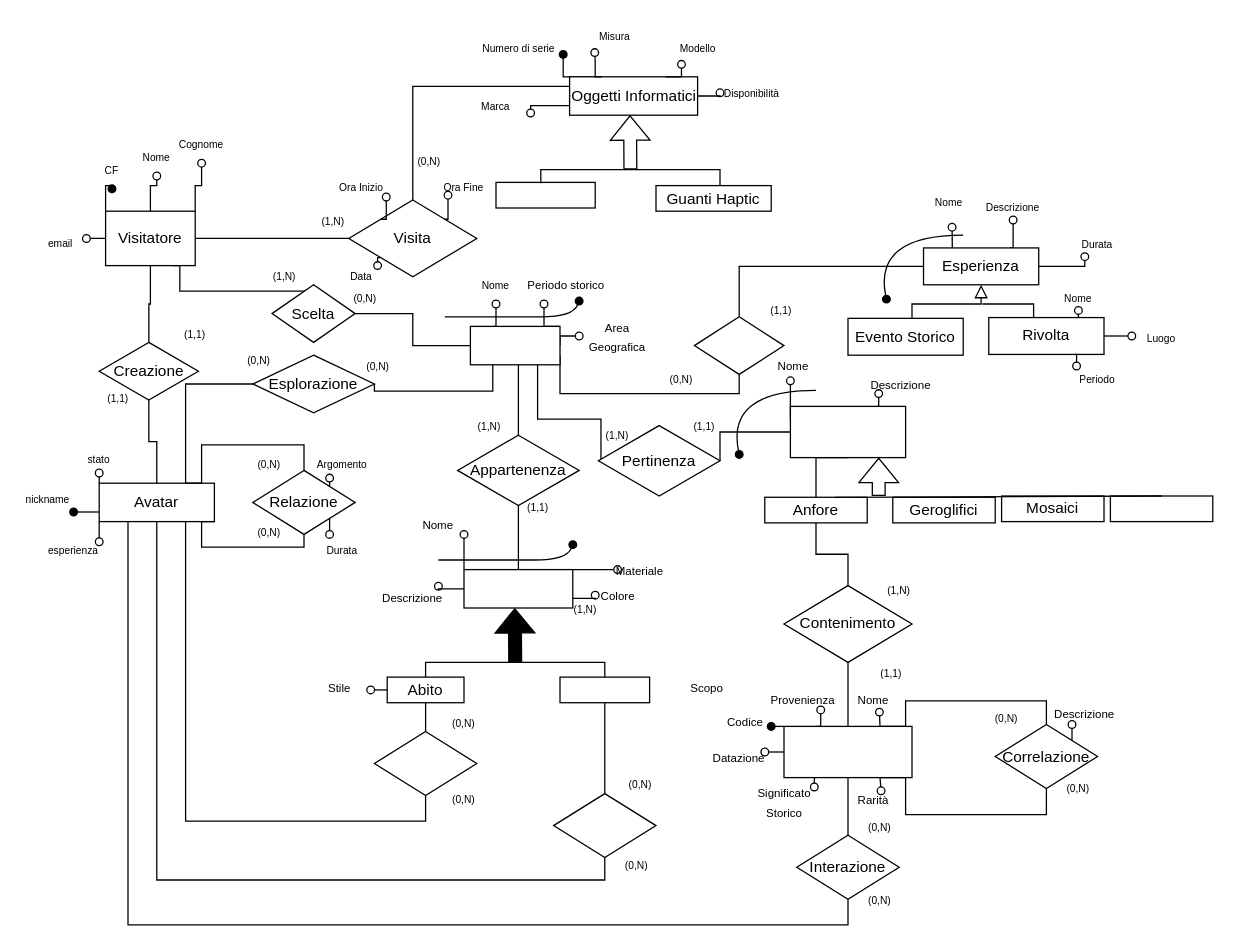
Some shapes in this 1235 by 948 pixel diagram are drawn without their labels. The shapes that lost their labels are listed below. From the top down, each one's centre as x and y in pixels, then its label:
the point at 545,194: Visore VR
the point at 514,345: Civiltà
the point at 738,345: Offerto
the point at 847,431: Collezione
the point at 1161,508: Storie Antiche
the point at 518,588: Abbigliamento
the point at 604,689: Accessorio
the point at 425,763: Indossa
the point at 847,751: Oggetto
the point at 604,825: Utilizzo
